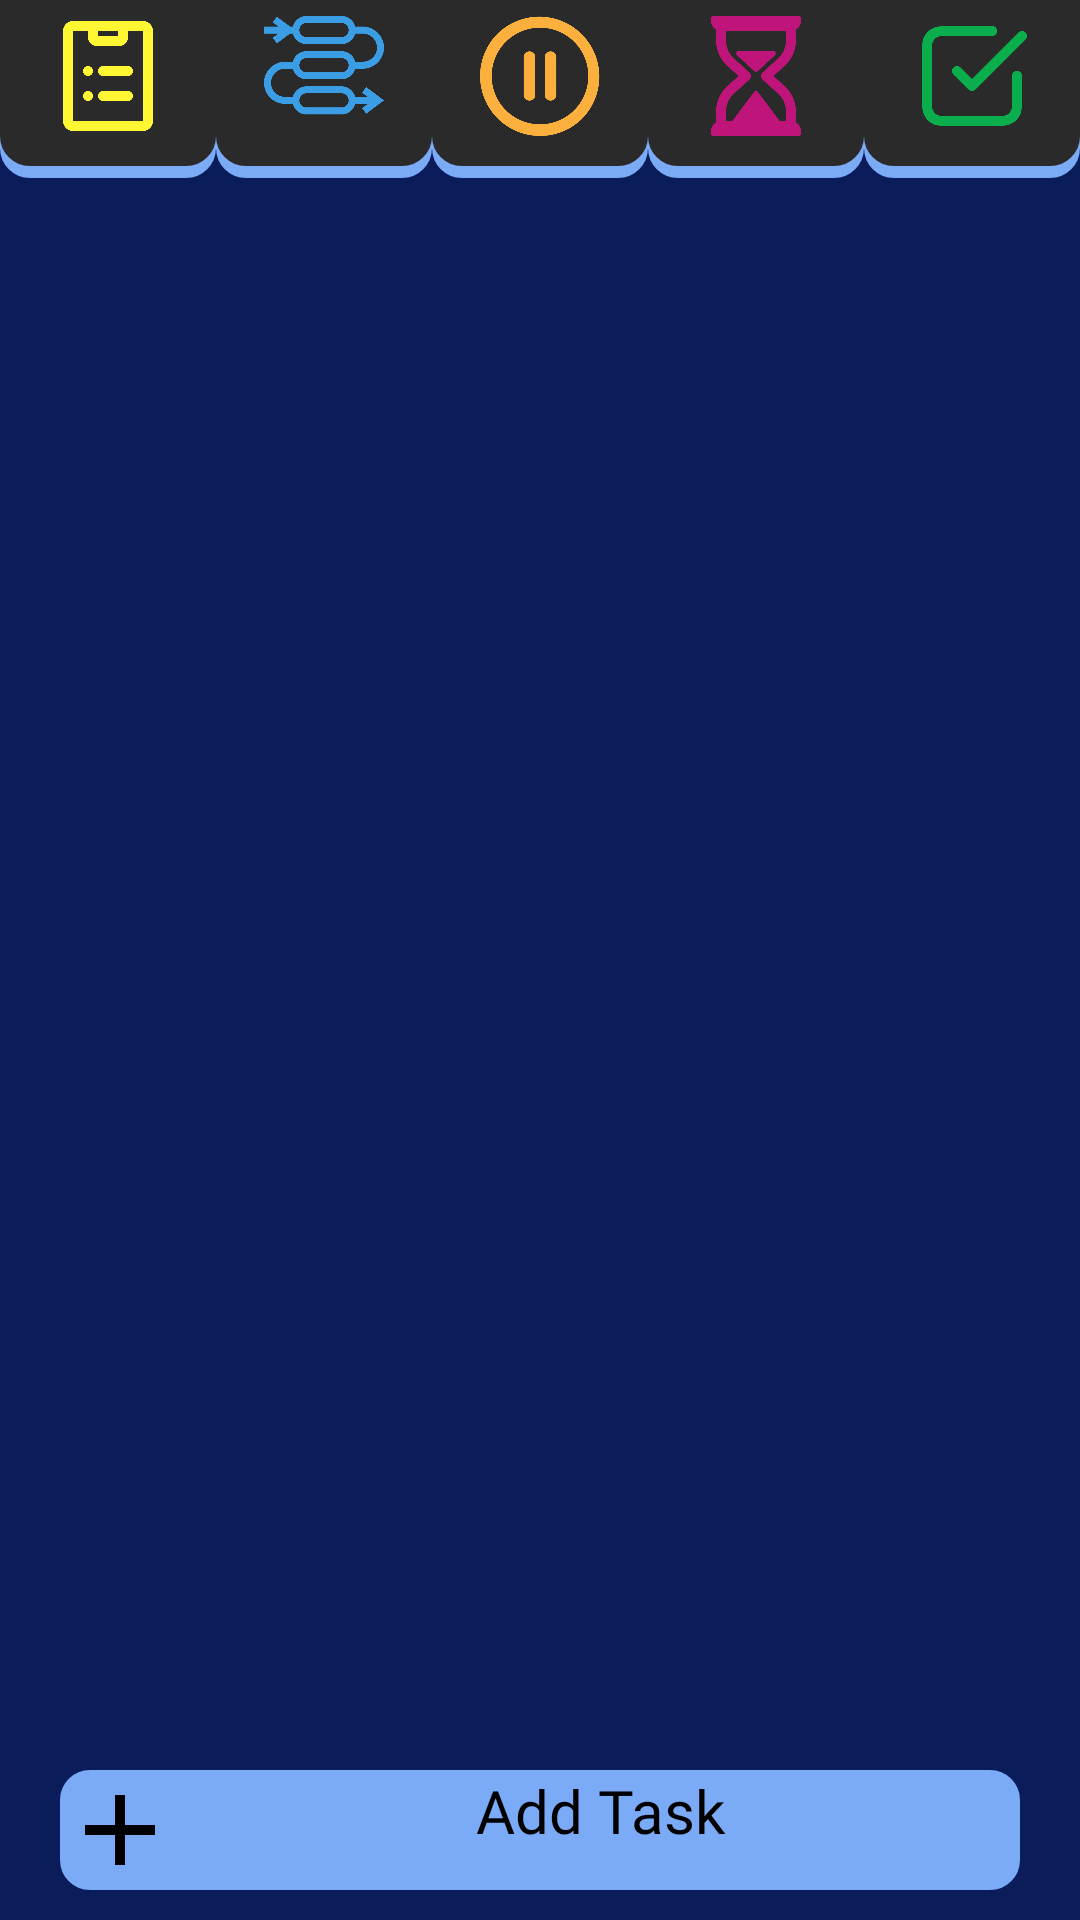

Icon click points for this 1080*1920 phone screenshot, format (x=x, y=y):
plus sign: (x=120, y=1830)
statuscomplete: (x=974, y=76)
statusinprogress: (x=324, y=65)
statusonhold: (x=540, y=76)
statustodo: (x=108, y=76)
